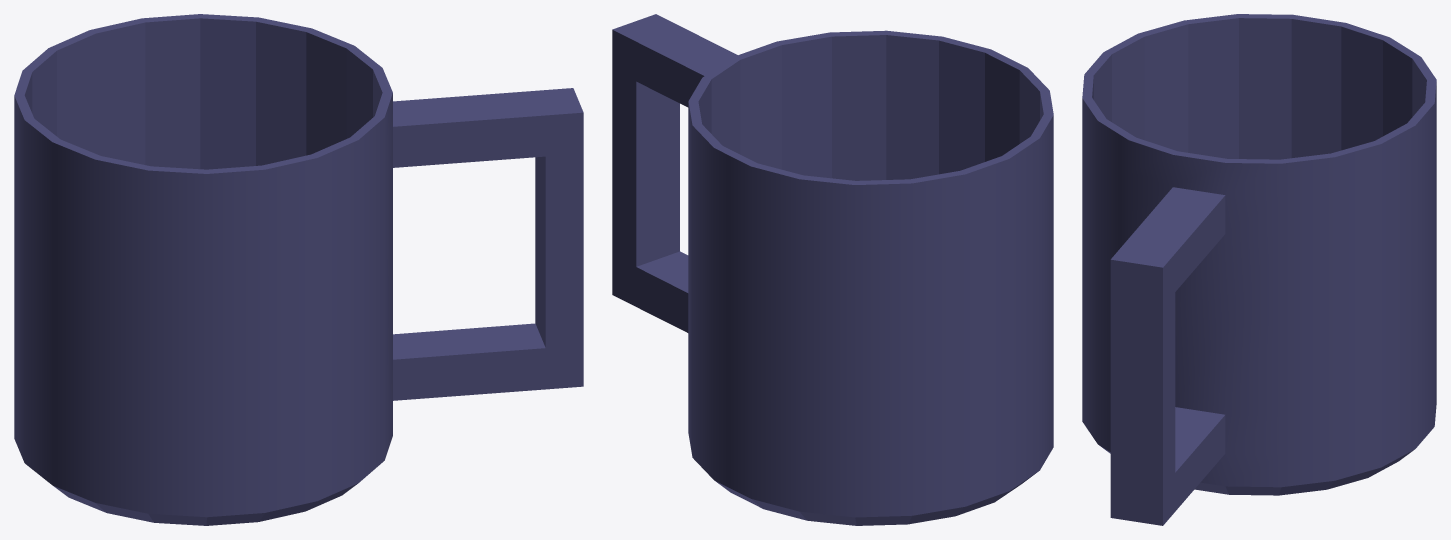
Rendered from mug.fbx.
The picture shows the model from 3 angles, left to right: view 1: azimuth 30°, elevation 25°; view 2: azimuth 150°, elevation 25°; view 3: azimuth 270°, elevation 25°; orthographic projection. The views are drawn at different scales.
Visible parts, largest first — view 1: pasted__pCylinder2; view 2: pasted__pCylinder2; view 3: pasted__pCylinder2.
Boxes of the visible parts, x1,y1,x2,y2 form: pasted__pCylinder2: (14,14,583,525); pasted__pCylinder2: (612,14,1053,525); pasted__pCylinder2: (1082,14,1436,525).
Bounding box in the file's own units: 1.15 × 0.8259 × 0.7804.
